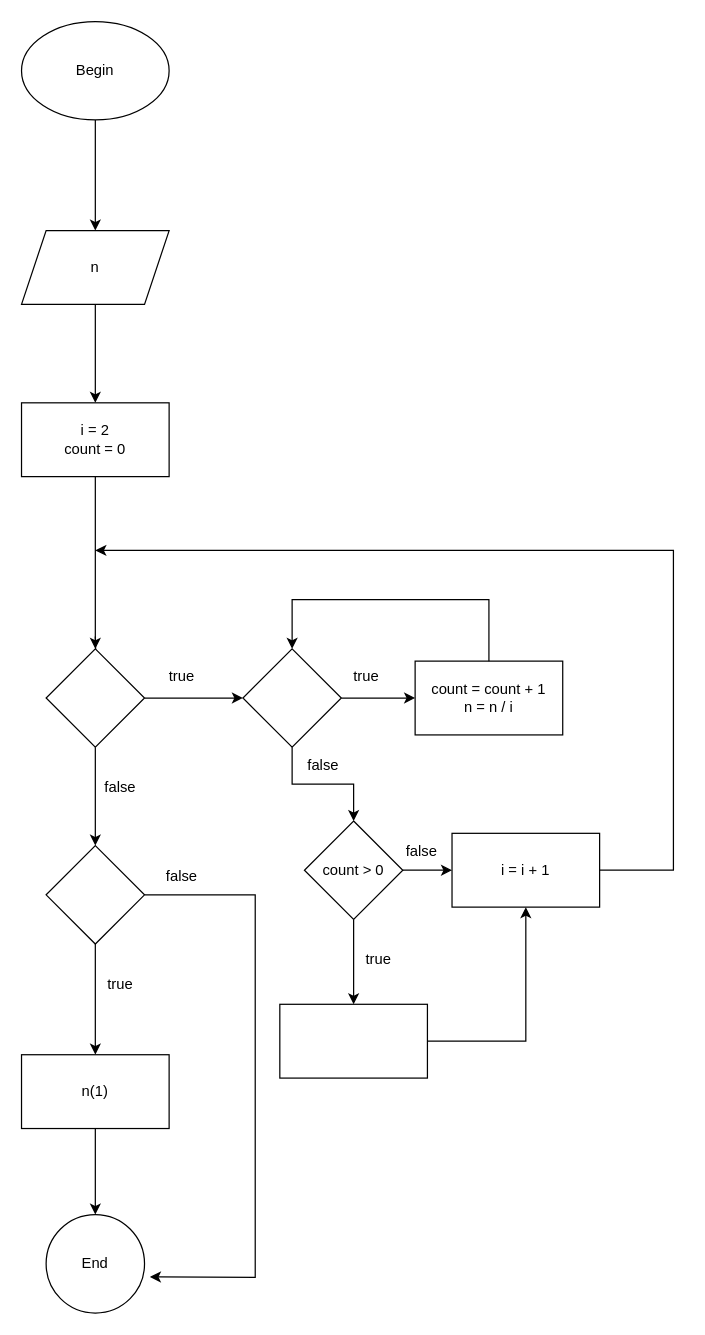
This 705x1335 diagram has some shape labels left out. Each missing label, with the centre of its shape:
"i <= sqrt(n)" belongs at point 95,697.
"i(count) count = 0" belongs at point 353,1040.
"n % i = 0" belongs at point 291,697.
"n > 1" belongs at point 95,894.
